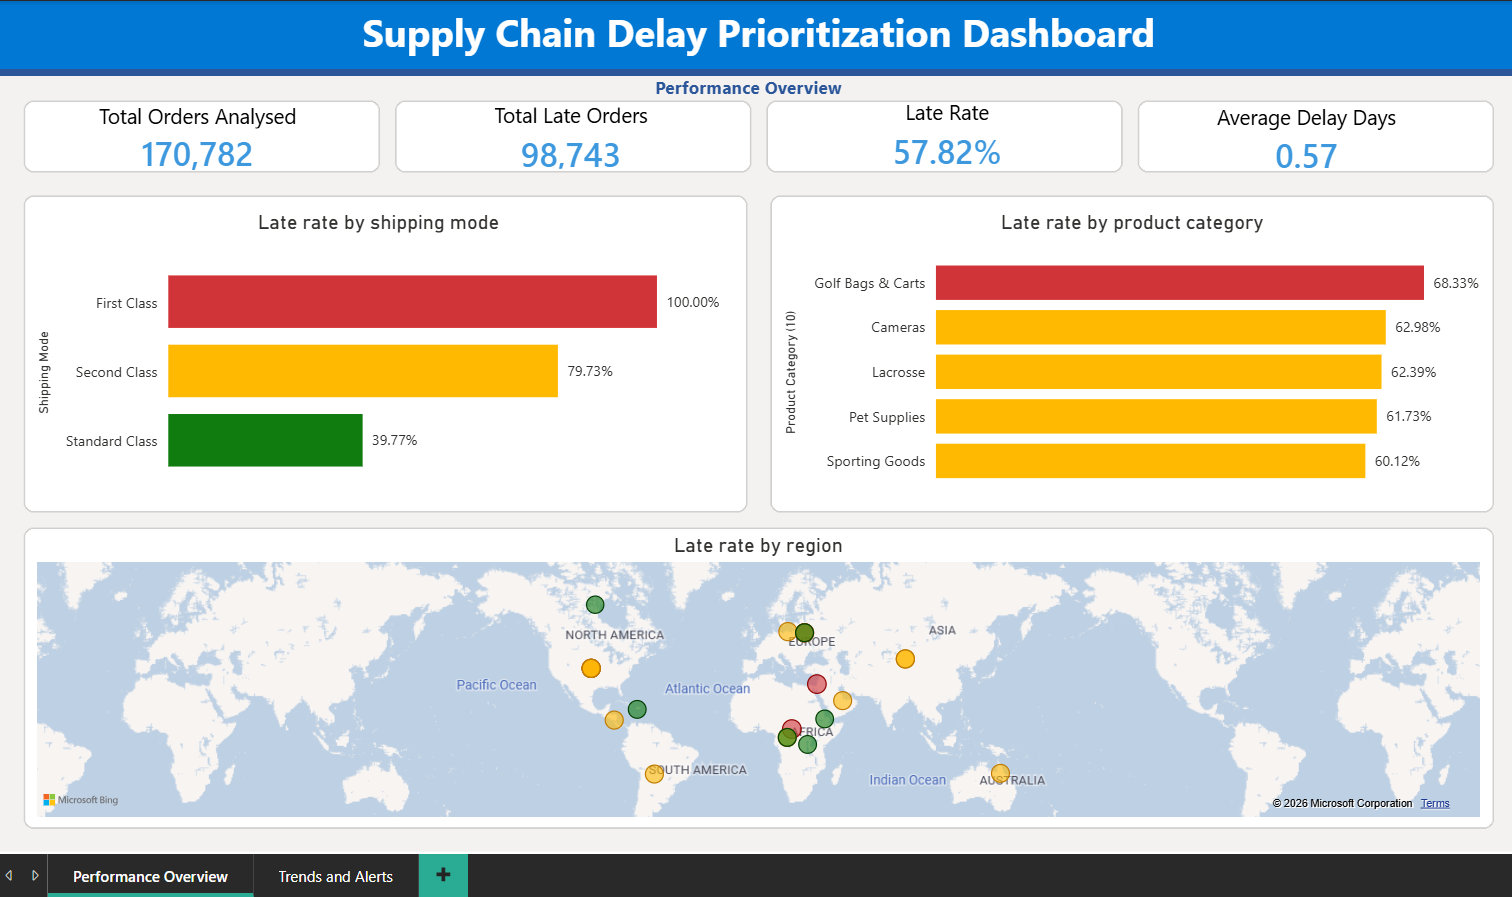

This screenshot's page, from the dashboard's own definition file:
{"tool":"powerbi","page":{"name":"Page 1","canvas":[1280,720],"ordinal":0},"visuals":[{"type":"cardVisual","title":"Total Orders Analysed","fields":{"Data":["DataCoSupplyChainDataset.Total Orders Analysed"]},"box":[89.5,97.7,217.4,66.3],"z":0},{"type":"cardVisual","fields":{"Data":["DataCoSupplyChainDataset.Total Late Orders"]},"box":[414,97.7,226.7,74.4],"z":1000},{"type":"cardVisual","fields":{"Data":["DataCoSupplyChainDataset.Late Rate"]},"box":[708.1,94.2,260.5,74.4],"z":2000},{"type":"cardVisual","fields":{"Data":["DataCoSupplyChainDataset.Avg Delay Days"]},"box":[1039.5,97.7,215.1,74.4],"z":3000},{"type":"clusteredBarChart","title":"Late Rate by Shipping Mode","fields":{"Y":["DataCoSupplyChainDataset.Late Rate"],"Category":["DataCoSupplyChainDataset.Shipping_Mode"]},"box":[30.2,225,373.2,190.7],"z":4000},{"type":"clusteredBarChart","fields":{"Category":["DataCoSupplyChainDataset.Category_Name"],"Y":["DataCoSupplyChainDataset.Late Rate"]},"box":[452.3,225.6,373.3,190.7],"z":5000},{"type":"map","fields":{"Category":["DataCoSupplyChainDataset.Order_Region"],"Size":["DataCoSupplyChainDataset.Late Rate"]},"box":[869.8,225.6,373.3,190.7],"z":6000},{"type":"lineChart","fields":{"Y":["DataCoSupplyChainDataset.Late Rate"],"Category":["DataCoSupplyChainDataset.order_date_DateOrders.Variation.Date Hierarchy.Month"]},"box":[30.6,498.8,373.3,191.9],"z":7000},{"type":"tableEx","fields":{"Values":["DataCoSupplyChainDataset.Order_Region","DataCoSupplyChainDataset.Shipping_Mode","DataCoSupplyChainDataset.Late Rate","DataCoSupplyChainDataset.Total Orders Analysed","DataCoSupplyChainDataset.Total Late Orders"]},"box":[443.9,498.8,372.2,191.9],"z":8000},{"type":"donutChart","fields":{"Category":["DataCoSupplyChainDataset.Delivery_Status"],"Y":["DataCoSupplyChainDataset.Total Orders Analysed"]},"box":[860.5,499.8,394.4,190.9],"z":9000},{"type":"textbox","box":[13.7,67.2,1266.6,30.2],"z":10000},{"type":"textbox","box":[0,0,1280.3,57.6],"z":11000},{"type":"textbox","box":[0,171.5,1280.3,28.8],"z":12000},{"type":"textbox","box":[0,438.7,1280.1,31.6],"z":13000}]}

Visuals, with their boxes on the page's 1280x720 design canvas (x1, y1, x2, y2). These are canvas units, not pixel positions in the 1512x897 screenshot, which may show the page scaled, cropped or inside an application window:
"Total Orders Analysed" cardVisual: x1=90, y1=98, x2=307, y2=164
cardVisual - DataCoSupplyChainDataset.Total Late Orders: x1=414, y1=98, x2=641, y2=172
cardVisual - DataCoSupplyChainDataset.Late Rate: x1=708, y1=94, x2=969, y2=169
cardVisual - DataCoSupplyChainDataset.Avg Delay Days: x1=1040, y1=98, x2=1255, y2=172
"Late Rate by Shipping Mode" clusteredBarChart: x1=30, y1=225, x2=403, y2=416
clusteredBarChart - DataCoSupplyChainDataset.Category_Name x DataCoSupplyChainDataset.Late Rate: x1=452, y1=226, x2=826, y2=416
map - DataCoSupplyChainDataset.Order_Region x DataCoSupplyChainDataset.Late Rate: x1=870, y1=226, x2=1243, y2=416
lineChart - DataCoSupplyChainDataset.Late Rate x DataCoSupplyChainDataset.order_date_DateOrders.Variation.Date Hierarchy.Month: x1=31, y1=499, x2=404, y2=691
tableEx - DataCoSupplyChainDataset.Order_Region x DataCoSupplyChainDataset.Shipping_Mode: x1=444, y1=499, x2=816, y2=691
donutChart - DataCoSupplyChainDataset.Delivery_Status x DataCoSupplyChainDataset.Total Orders Analysed: x1=860, y1=500, x2=1255, y2=691
textbox: x1=14, y1=67, x2=1280, y2=97
textbox: x1=0, y1=0, x2=1280, y2=58
textbox: x1=0, y1=172, x2=1280, y2=200
textbox: x1=0, y1=439, x2=1280, y2=470
